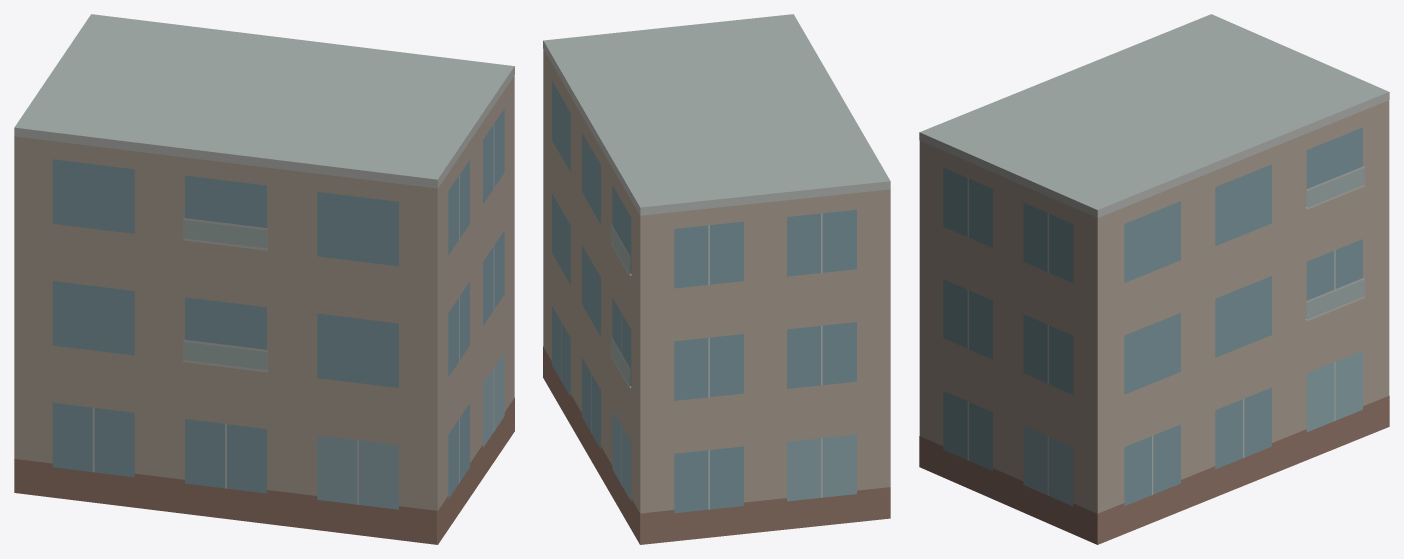
File: survey-upis-33008677.glb
The picture shows the model from 3 angles, left to right: view 1: azimuth 30°, elevation 25°; view 2: azimuth 150°, elevation 25°; view 3: azimuth 270°, elevation 25°; orthographic projection. The views are drawn at different scales.
Parts seen in each view (by area): view 1: survey-upis-33008677.tmp; view 2: survey-upis-33008677.tmp; view 3: survey-upis-33008677.tmp.
Boxes of the visible parts, <box> form: survey-upis-33008677.tmp: <box>14,14,514,544</box>; survey-upis-33008677.tmp: <box>543,14,890,544</box>; survey-upis-33008677.tmp: <box>919,14,1389,544</box>.
Size of the model in its own units: 12.69 by 10.1 by 12.86.
